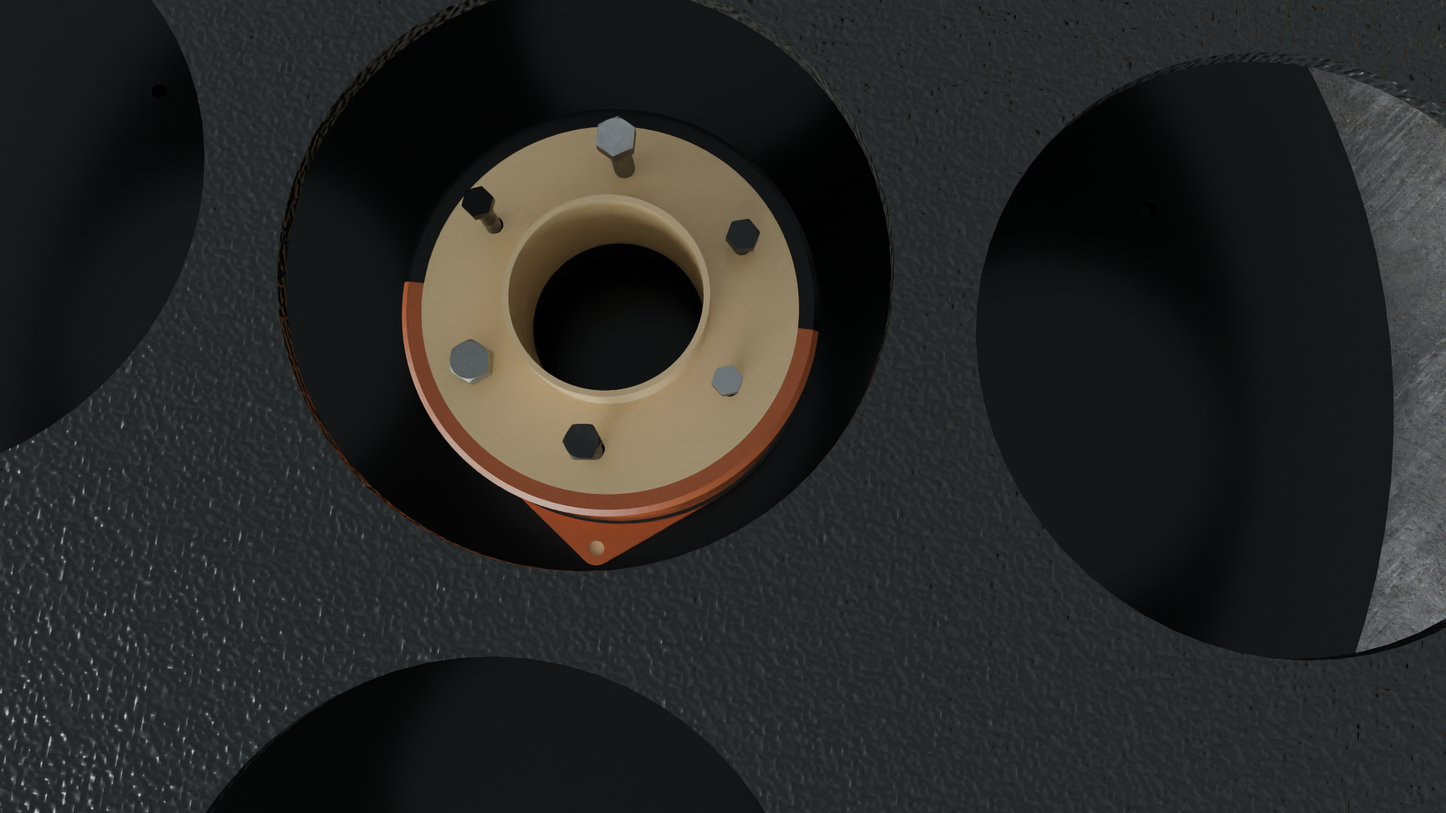bolt: (450, 339, 490, 382), (596, 116, 635, 157), (563, 424, 602, 458), (726, 219, 760, 250), (462, 186, 493, 217), (712, 365, 743, 395)
